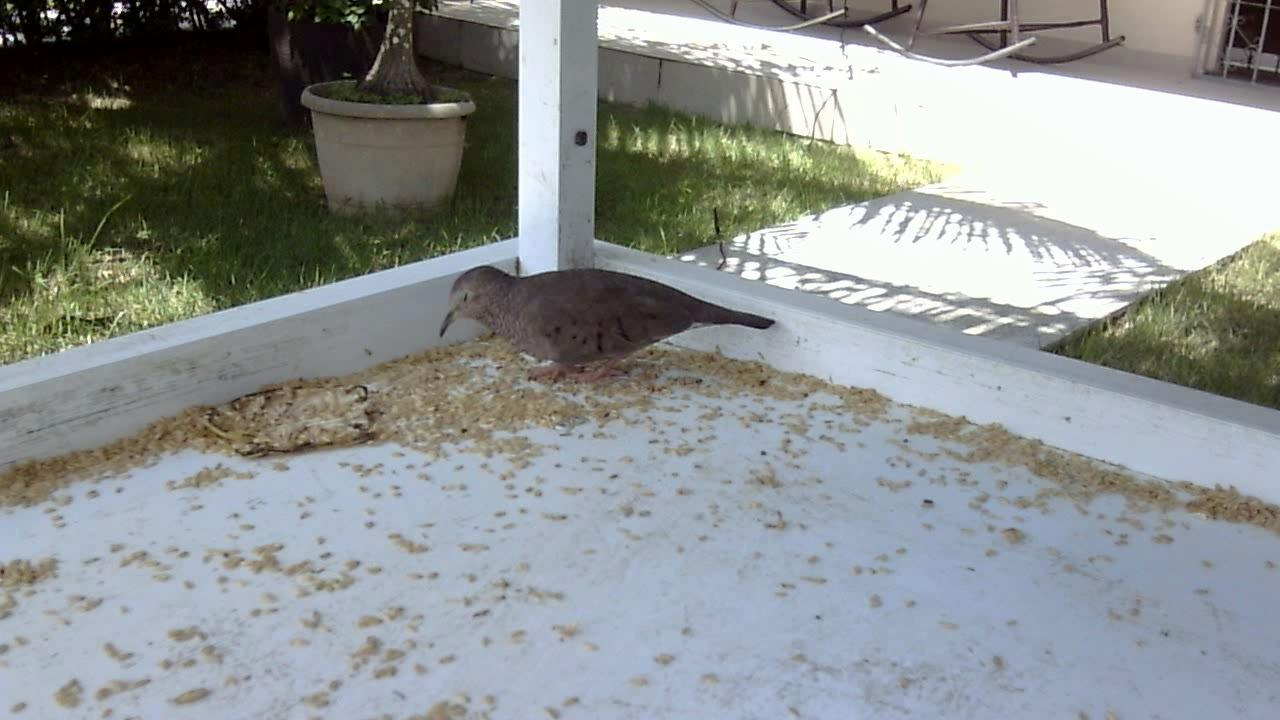rolinha: (439, 263, 781, 392)
